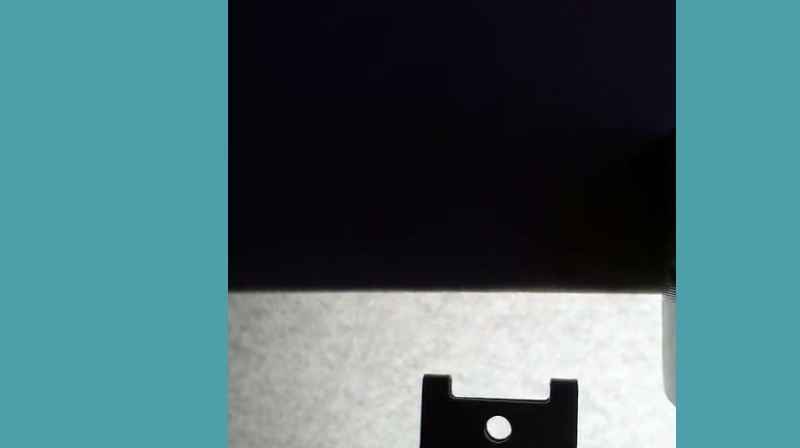O002: (415, 369, 582, 447)
